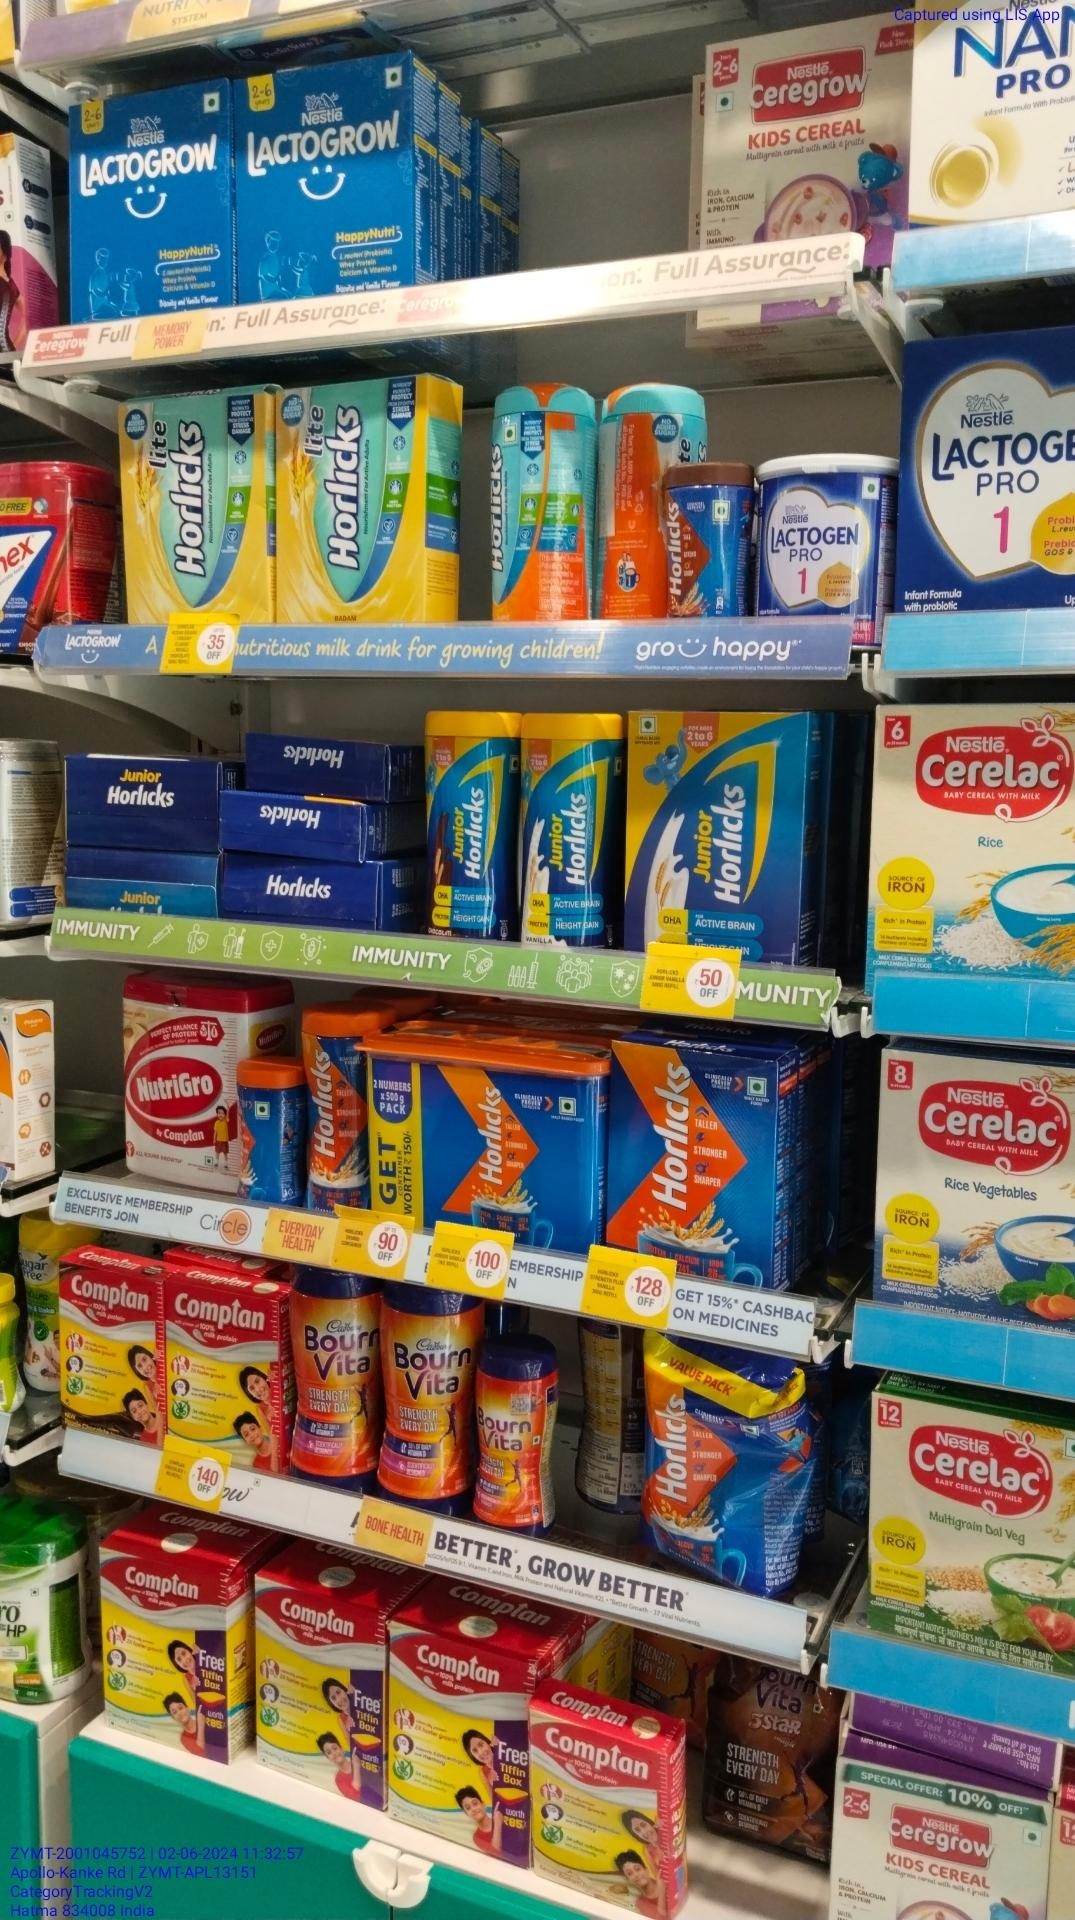HORLICKS_JUNIOR_VANILLA_500_GM_JAR: (513, 711, 617, 949), (418, 704, 505, 936)
